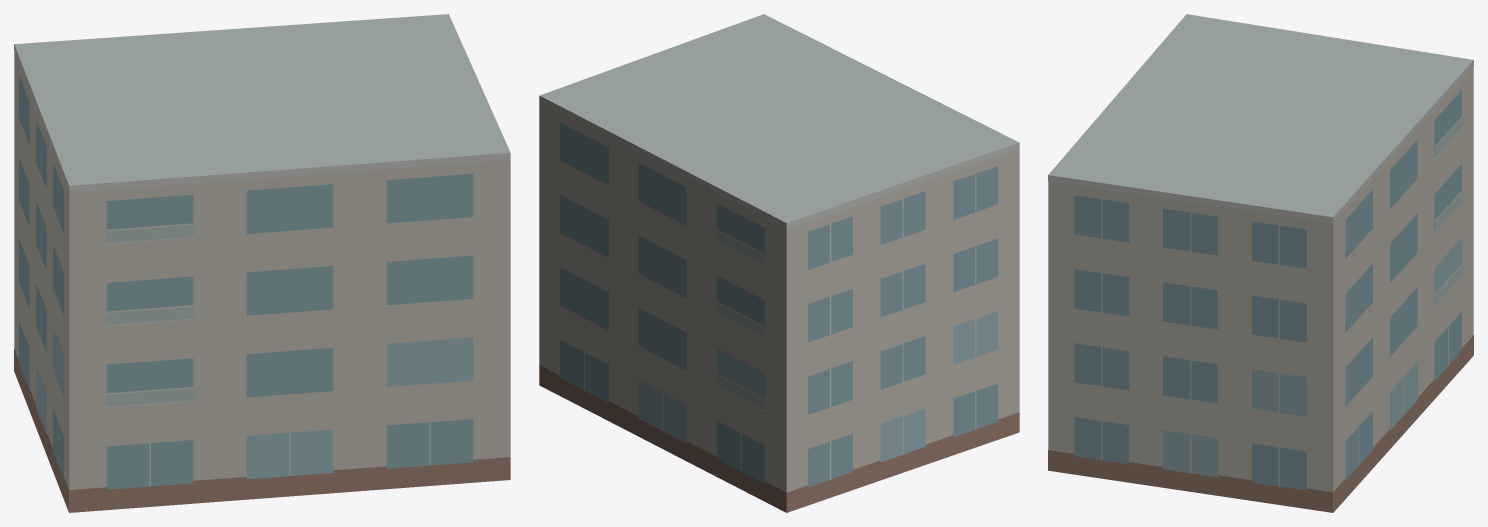
File: survey-upis-32942610.glb
3 renders of one model, left to right at view 1: azimuth 30°, elevation 25°; view 2: azimuth 150°, elevation 25°; view 3: azimuth 270°, elevation 25°, orthographic. The views are drawn at different scales.
Visible parts, largest first — view 1: survey-upis-32942610.tmp; view 2: survey-upis-32942610.tmp; view 3: survey-upis-32942610.tmp.
Part boxes in pixels (<box>): survey-upis-32942610.tmp: <box>14,14,510,512</box>; survey-upis-32942610.tmp: <box>539,14,1019,512</box>; survey-upis-32942610.tmp: <box>1048,14,1473,512</box>.
Size of the model in its own units: 16.97 by 11.5 by 15.02.
